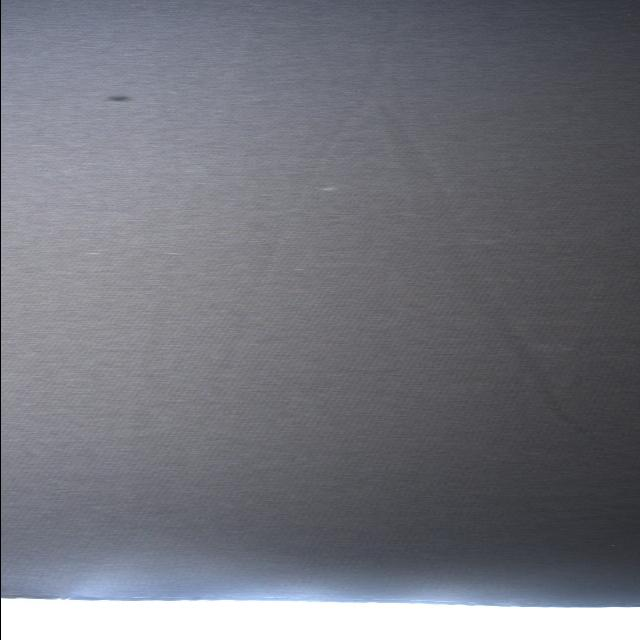crease: (354, 97, 640, 465), (200, 132, 358, 464)
